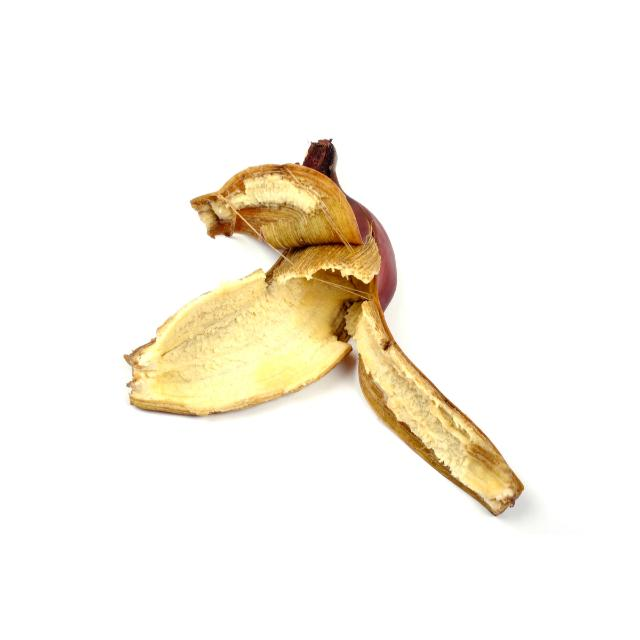organic: (123, 140, 524, 518)
